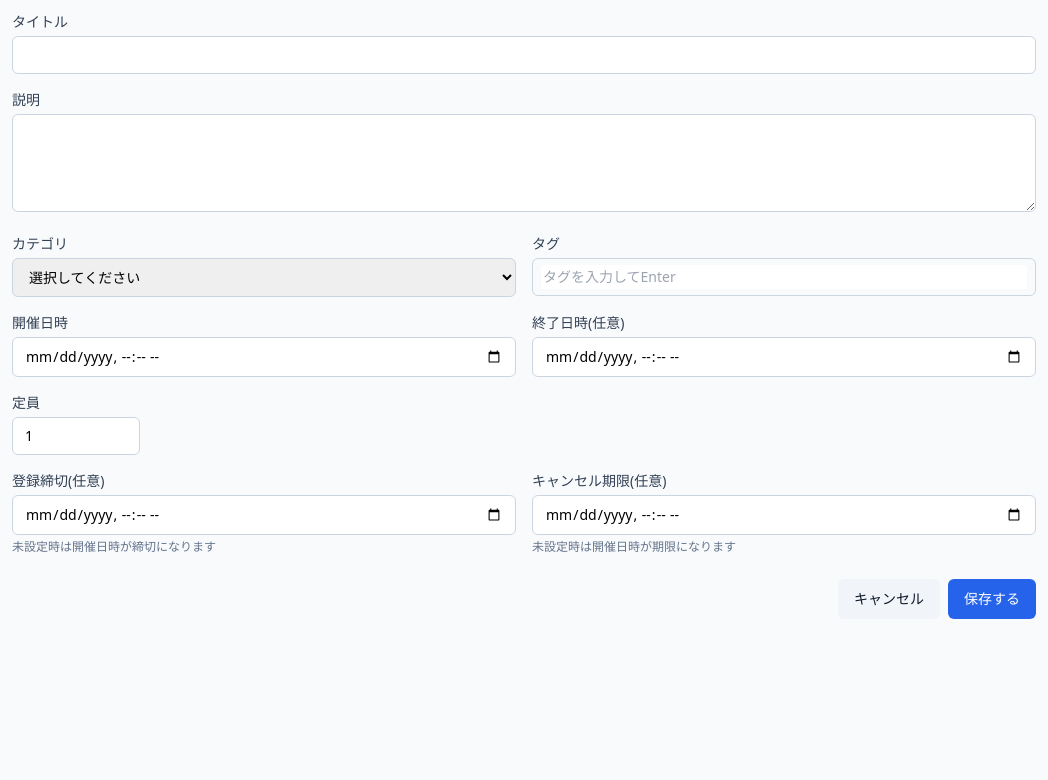
Test: EventForm › タグの削除ボタンクリックでタグが除去される
In the field labelled "タグ": (784, 277) [541, 265, 1027, 289], type "react"
Then press Enter
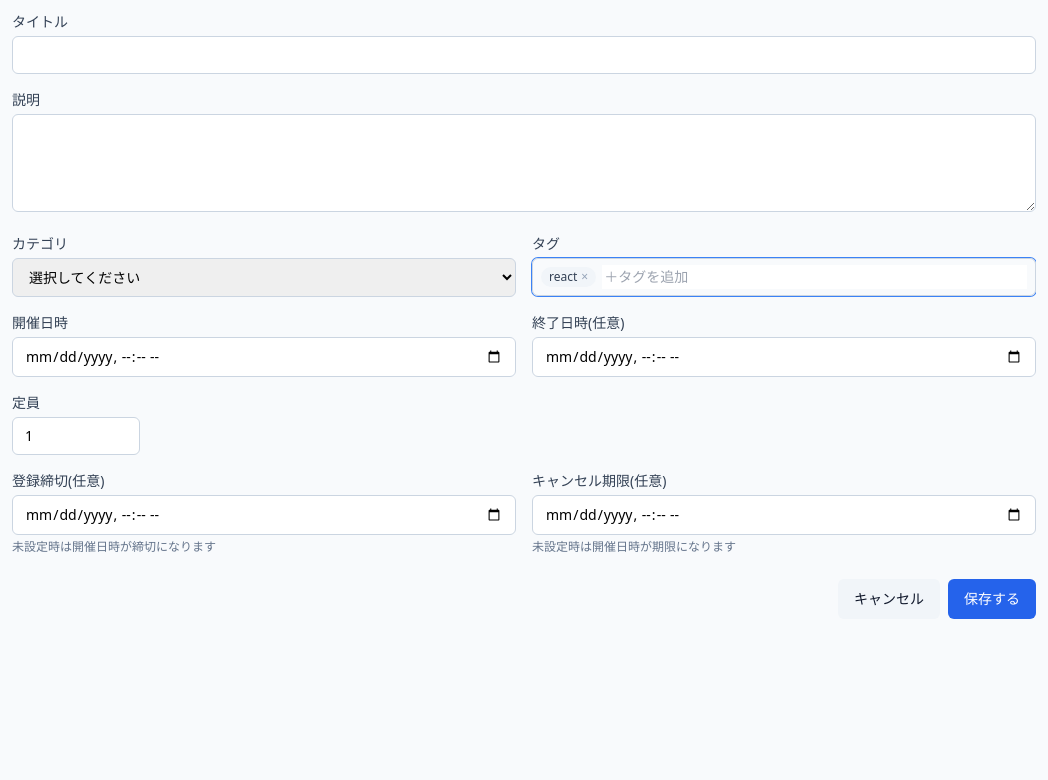
Check: the text "react" is shown, box [549, 268, 577, 285]
Click the button named "タグ「react」を削除": (585, 277) [581, 269, 588, 285]
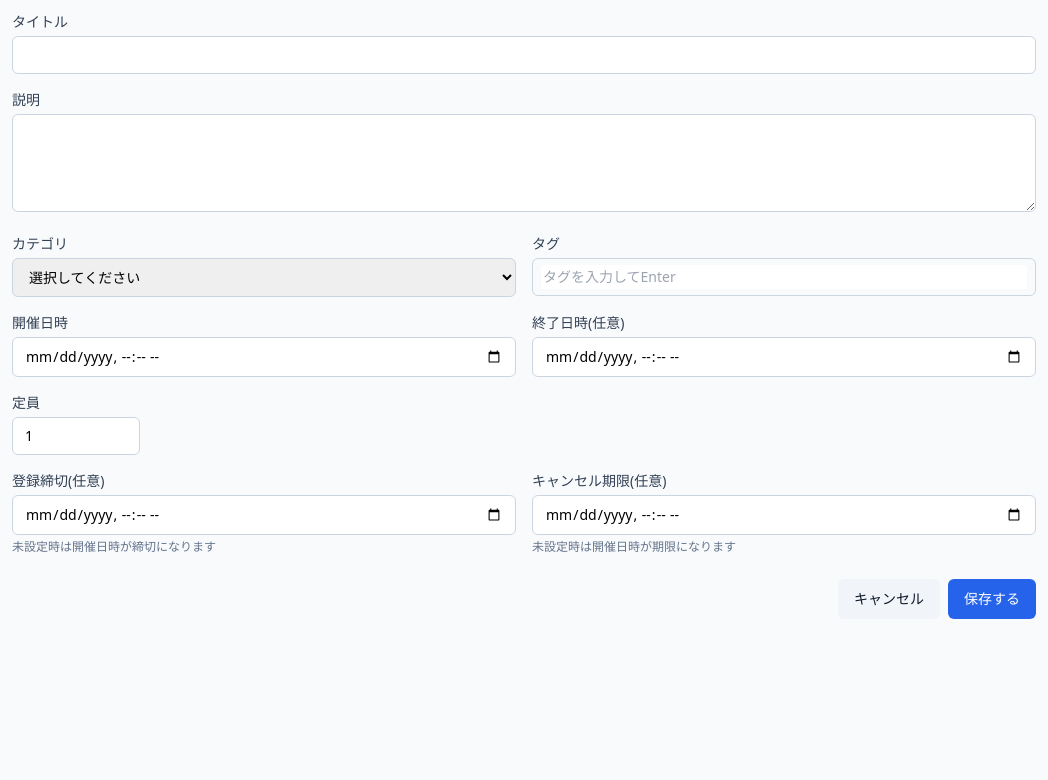
Check: the text "react" is gone
